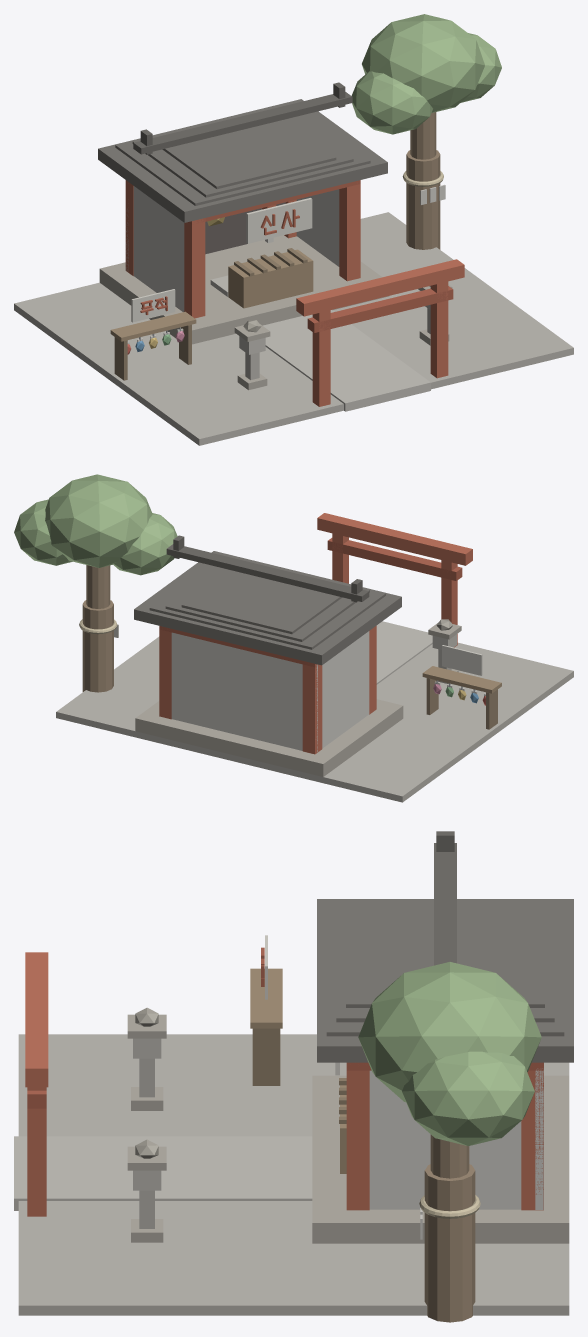
Rendered from shrine.glb.
3 renders of one model, top to bottom at view 1: azimuth 30°, elevation 25°; view 2: azimuth 150°, elevation 25°; view 3: azimuth 270°, elevation 25°, orthographic. The views are drawn at different scales.
Parts seen in each view (by area): view 1: part_13, part_03, part_06, part_14, part_12, part_15, part_22, part_08, part_07, part_11, part_01, part_24 (+2 smaller); view 2: part_13, part_22, part_03, part_06, part_14, part_12, part_07, part_01, part_11, part_15, part_08, part_24 (+1 smaller); view 3: part_13, part_03, part_06, part_15, part_12, part_22, part_14, part_07, part_01, part_08, part_05, part_11 (+1 smaller).
Boxes of the visible parts, left/top/right/bottom form: part_13: left=14, top=212, right=573, bottom=445; part_03: left=98, top=99, right=387, bottom=222; part_06: left=351, top=14, right=501, bottom=134; part_14: left=125, top=180, right=464, bottom=406; part_12: left=99, top=235, right=452, bottom=390; part_15: left=210, top=275, right=430, bottom=411; part_22: left=125, top=184, right=445, bottom=344; part_08: left=110, top=249, right=313, bottom=341; part_07: left=406, top=112, right=440, bottom=249; part_11: left=140, top=180, right=453, bottom=332; part_01: left=133, top=82, right=352, bottom=154; part_24: left=131, top=198, right=312, bottom=322; part_13: left=56, top=636, right=573, bottom=802; part_22: left=114, top=624, right=485, bottom=751; part_03: left=134, top=551, right=401, bottom=665; part_06: left=14, top=474, right=177, bottom=575; part_14: left=159, top=513, right=472, bottom=754; part_12: left=135, top=622, right=461, bottom=776; part_07: left=82, top=565, right=113, bottom=692; part_01: left=166, top=535, right=369, bottom=602; part_11: left=159, top=538, right=462, bottom=667; part_15: left=376, top=621, right=456, bottom=684; part_08: left=422, top=666, right=501, bottom=693; part_24: left=442, top=645, right=482, bottom=675; part_13: left=18, top=1034, right=569, bottom=1315; part_03: left=317, top=899, right=573, bottom=1062; part_06: left=358, top=962, right=541, bottom=1146; part_15: left=14, top=1038, right=312, bottom=1210; part_12: left=127, top=1014, right=569, bottom=1243; part_22: left=369, top=1068, right=543, bottom=1239; part_14: left=25, top=952, right=543, bottom=1216; part_07: left=424, top=1134, right=475, bottom=1322; part_01: left=434, top=831, right=456, bottom=965; part_08: left=250, top=968, right=346, bottom=1173; part_05: left=252, top=1028, right=346, bottom=1123; part_11: left=27, top=947, right=543, bottom=1108.
Size of the model in its own units: 16.75 by 8.16 by 12.2.
